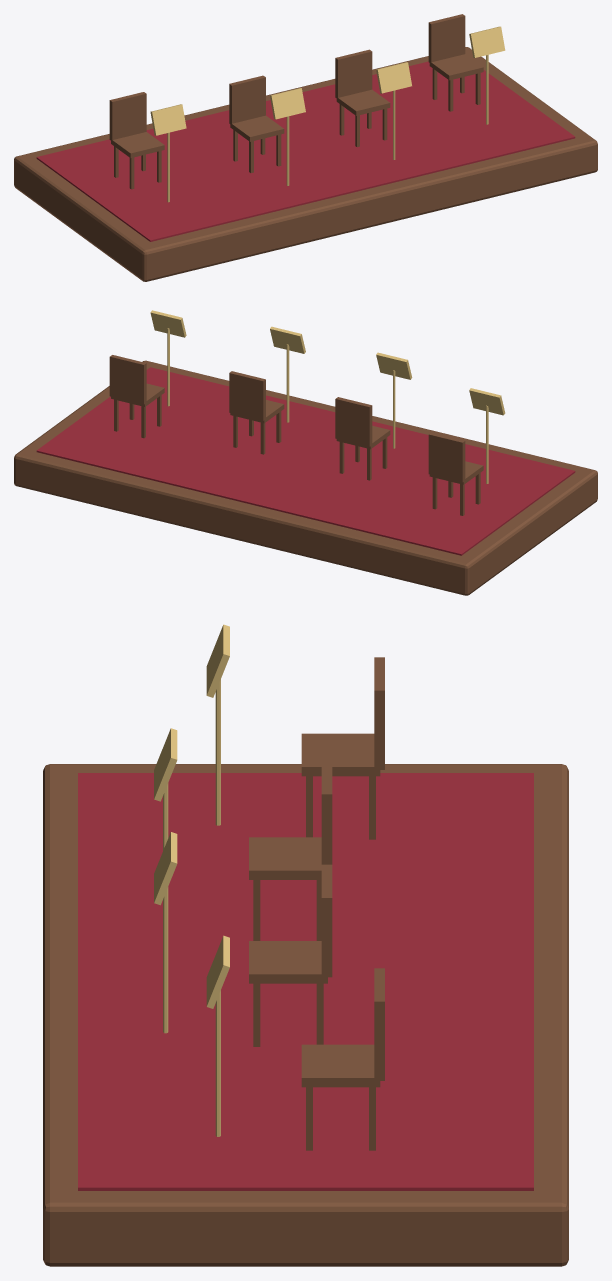
File: Dais.glb
3 views of the same model, one above another, from view 1: azimuth 30°, elevation 25°; view 2: azimuth 150°, elevation 25°; view 3: azimuth 270°, elevation 25° (orthographic). The views are drawn at different scales.
Visible parts, largest first — view 1: Dais; view 2: Dais; view 3: Dais.
Part boxes in pixels (x1=…): Dais: x1=14, y1=14, x2=597, y2=281; Dais: x1=14, y1=310, x2=597, y2=595; Dais: x1=43, y1=624, x2=568, y2=1266.
Bounding box in the file's own units: 6 × 1.59 × 3.
